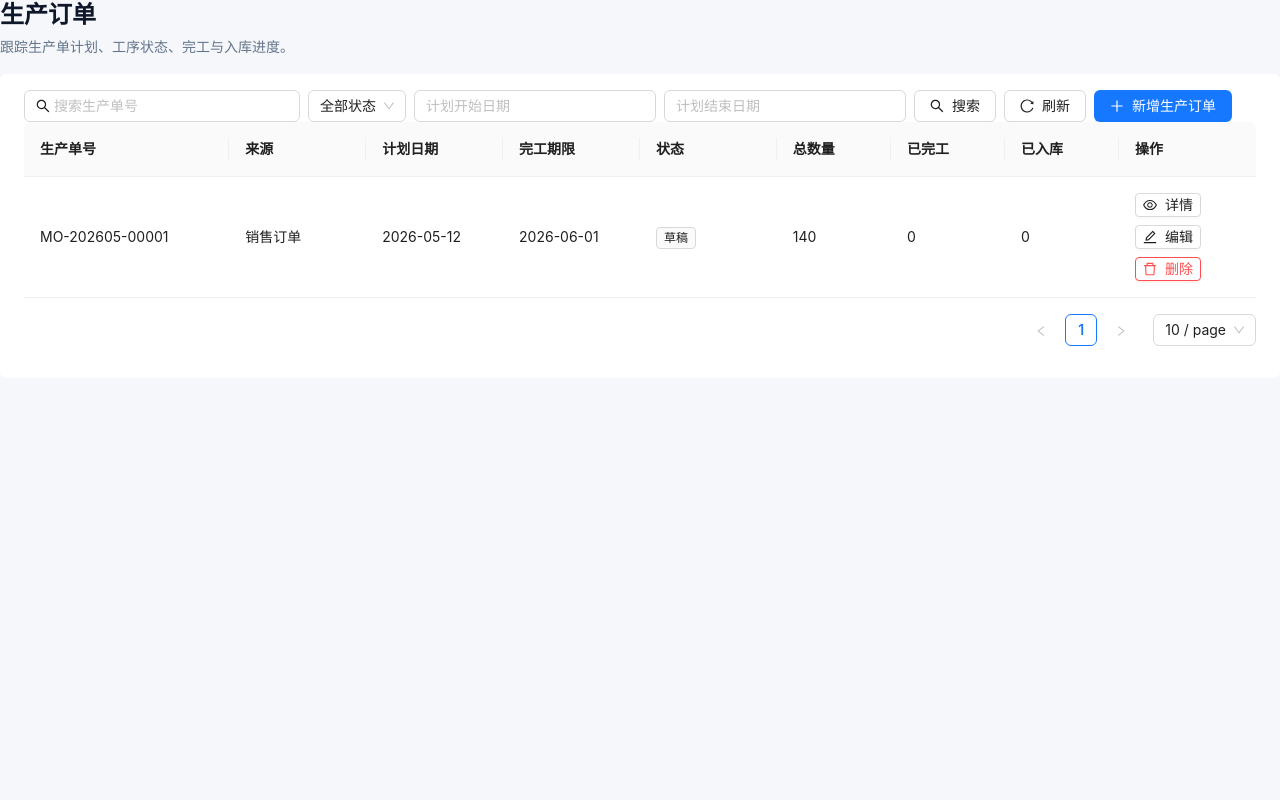
Test: ProductionOrderListPage › shows production progress and material requirements in detail
Check: the text "MO-202605-00001" is shown, box [24,177,229,298]
Click the button with aria-label "详情 MO-202605-00001" at (1168, 205), box [1135,193,1201,217]
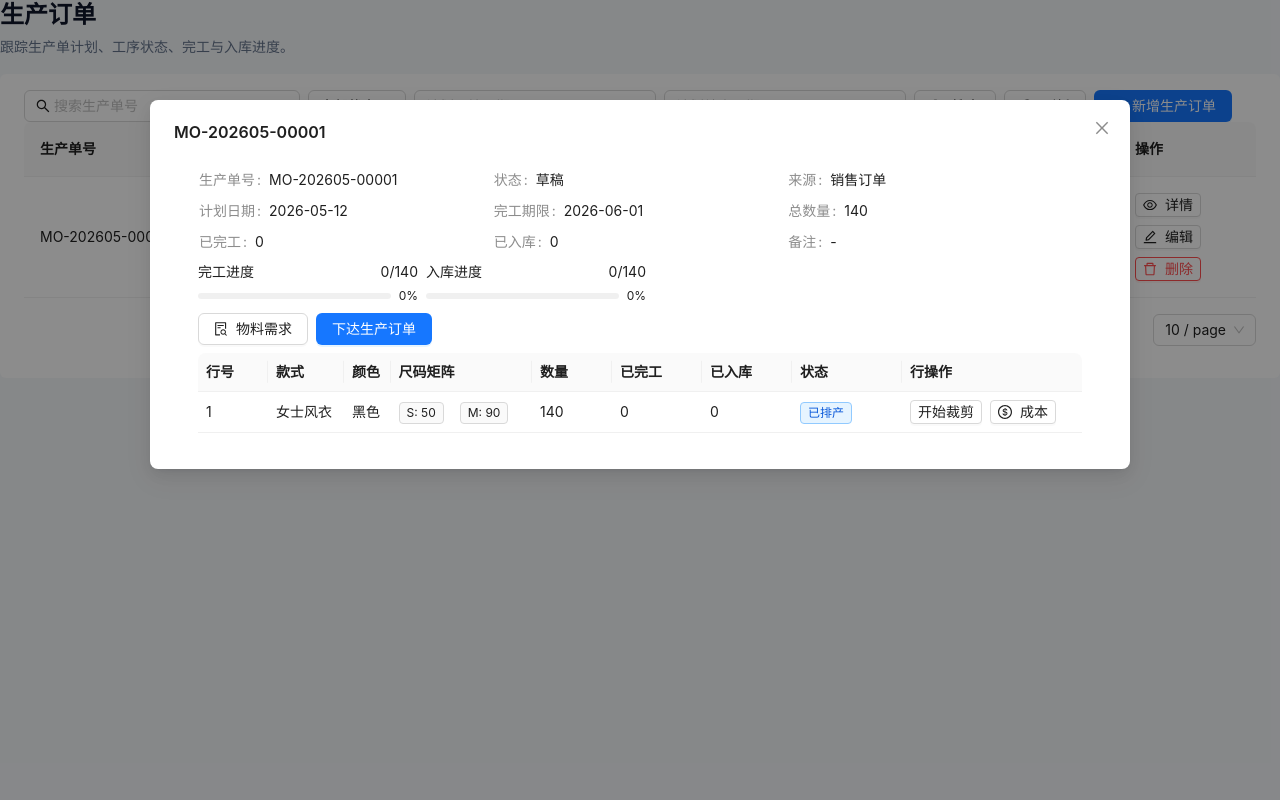
Check: the text "完工进度" is shown, box [198,263,254,280]
Check: the text "入库进度" is shown, box [426,263,482,280]
Click the button "物料需求" at (253, 329), box [198,313,308,345]
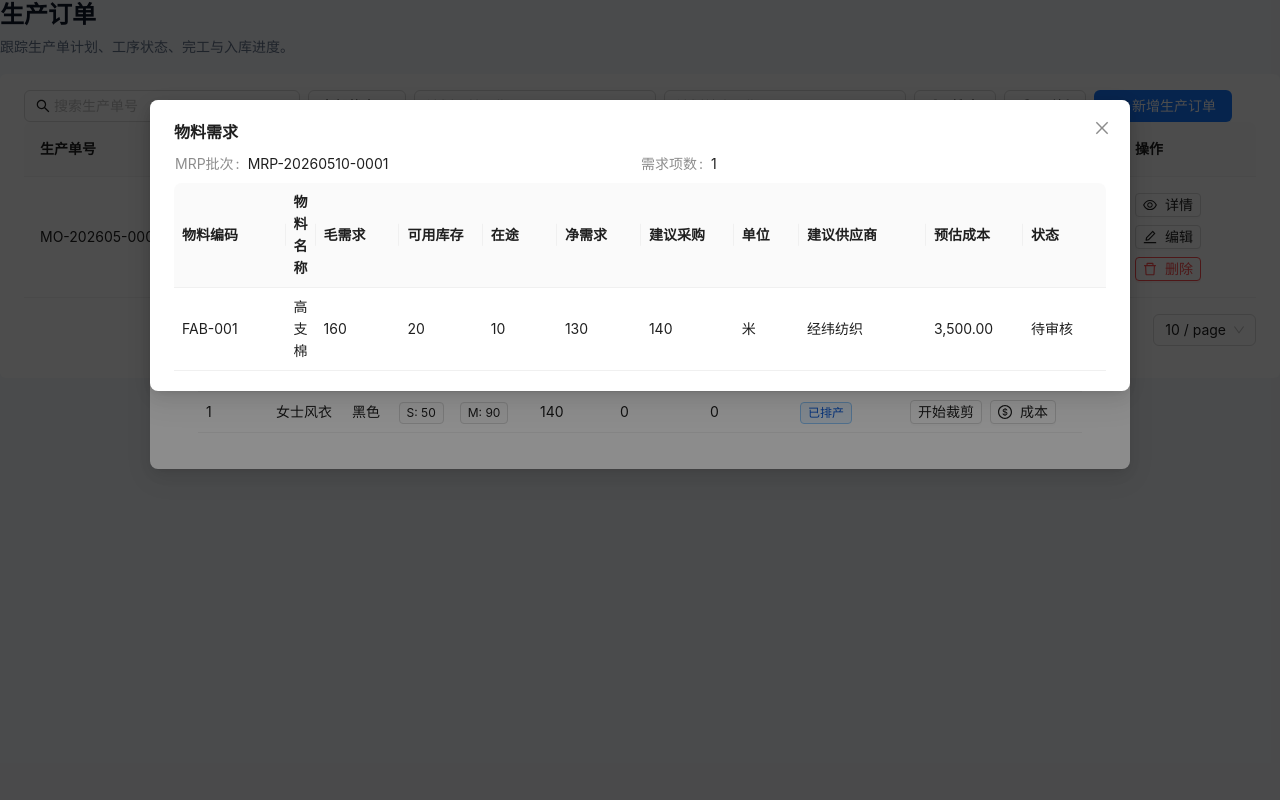
Check: the text "高支棉" is shown, box [286,288,316,371]
Check: the text "经纬纺织" is shown, box [799,288,926,371]
